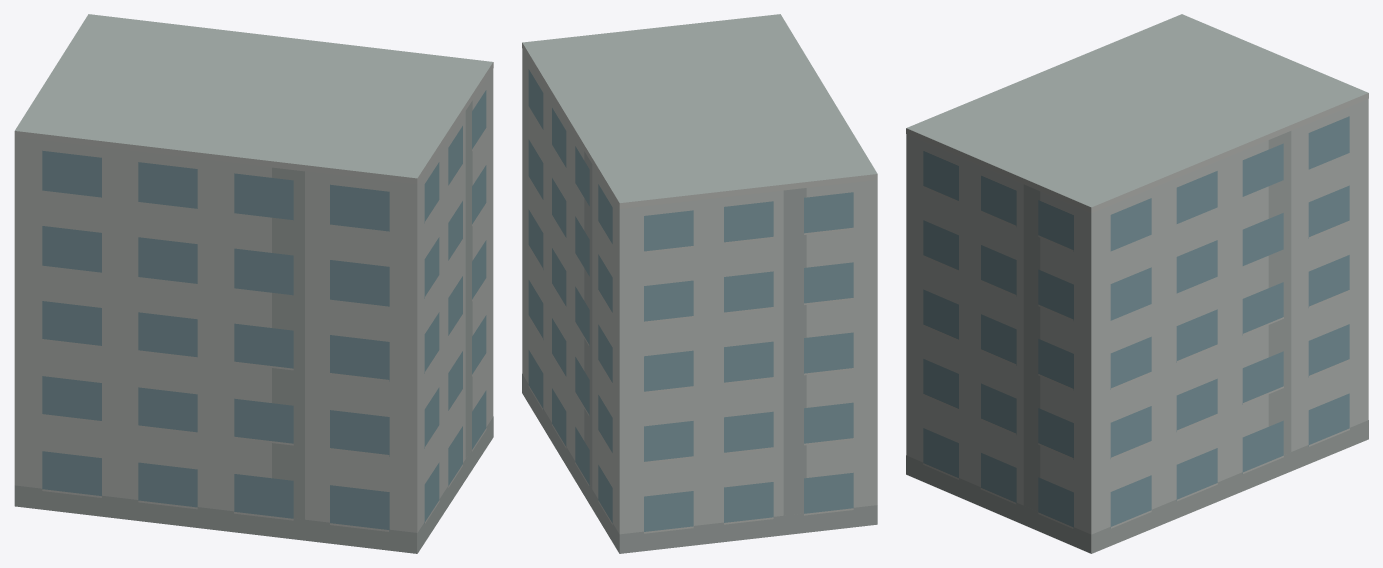
File: survey-upis-32888386.glb
3 renders of one model, left to right at view 1: azimuth 30°, elevation 25°; view 2: azimuth 150°, elevation 25°; view 3: azimuth 270°, elevation 25°, orthographic. The views are drawn at different scales.
Parts seen in each view (by area): view 1: survey-upis-32888386.tmp; view 2: survey-upis-32888386.tmp; view 3: survey-upis-32888386.tmp.
Part boxes in pixels (box(x1,y1,x2,y2)): survey-upis-32888386.tmp: box(14, 14, 493, 553); survey-upis-32888386.tmp: box(522, 14, 877, 553); survey-upis-32888386.tmp: box(906, 14, 1368, 553).
Bounding box in the file's own units: 17.37 × 14.5 × 17.55.
